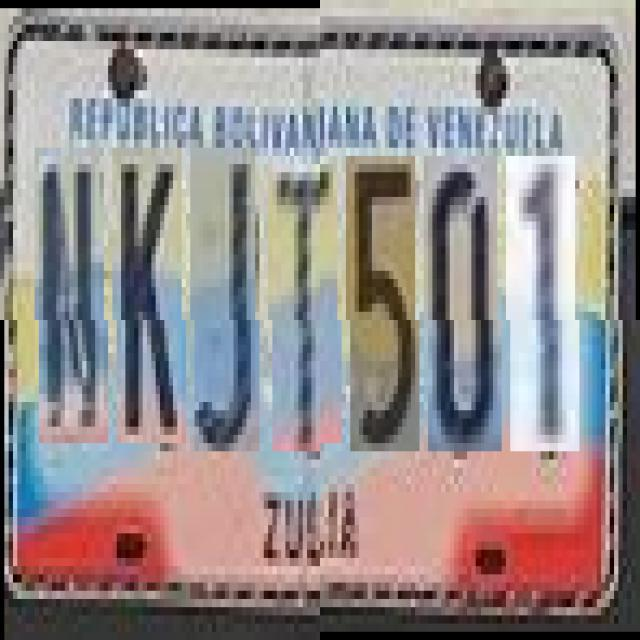0: (428, 164, 502, 460)
1: (510, 164, 580, 460)
5: (350, 164, 420, 460)
J: (194, 148, 260, 452)
K: (117, 148, 186, 444)
N: (39, 148, 108, 444)
T: (272, 164, 342, 451)
